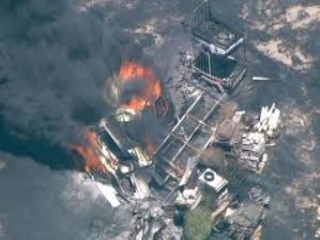fire: (120, 65, 161, 113), (75, 130, 116, 168)
smoke: (3, 10, 113, 162)
